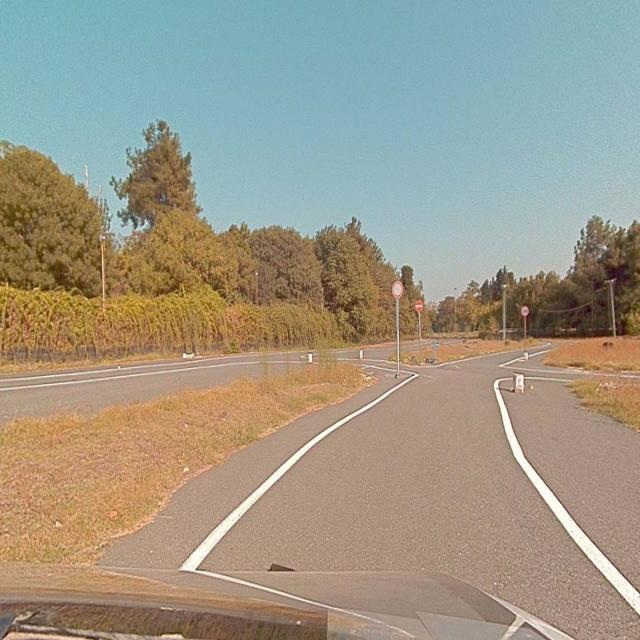girisyok: (415, 300, 422, 312)
